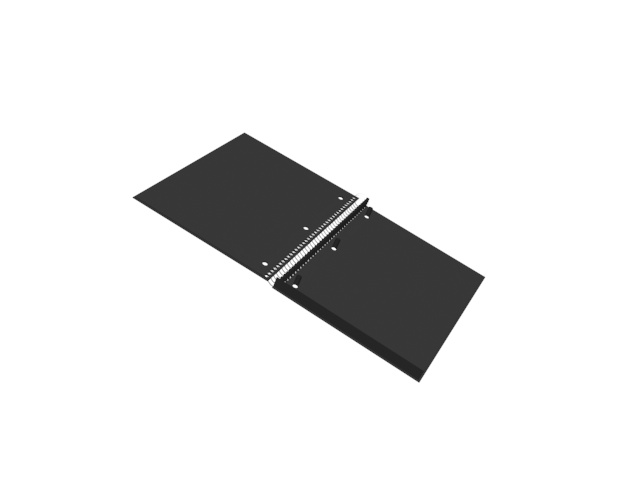paper_notebook: (129, 129, 488, 384)
